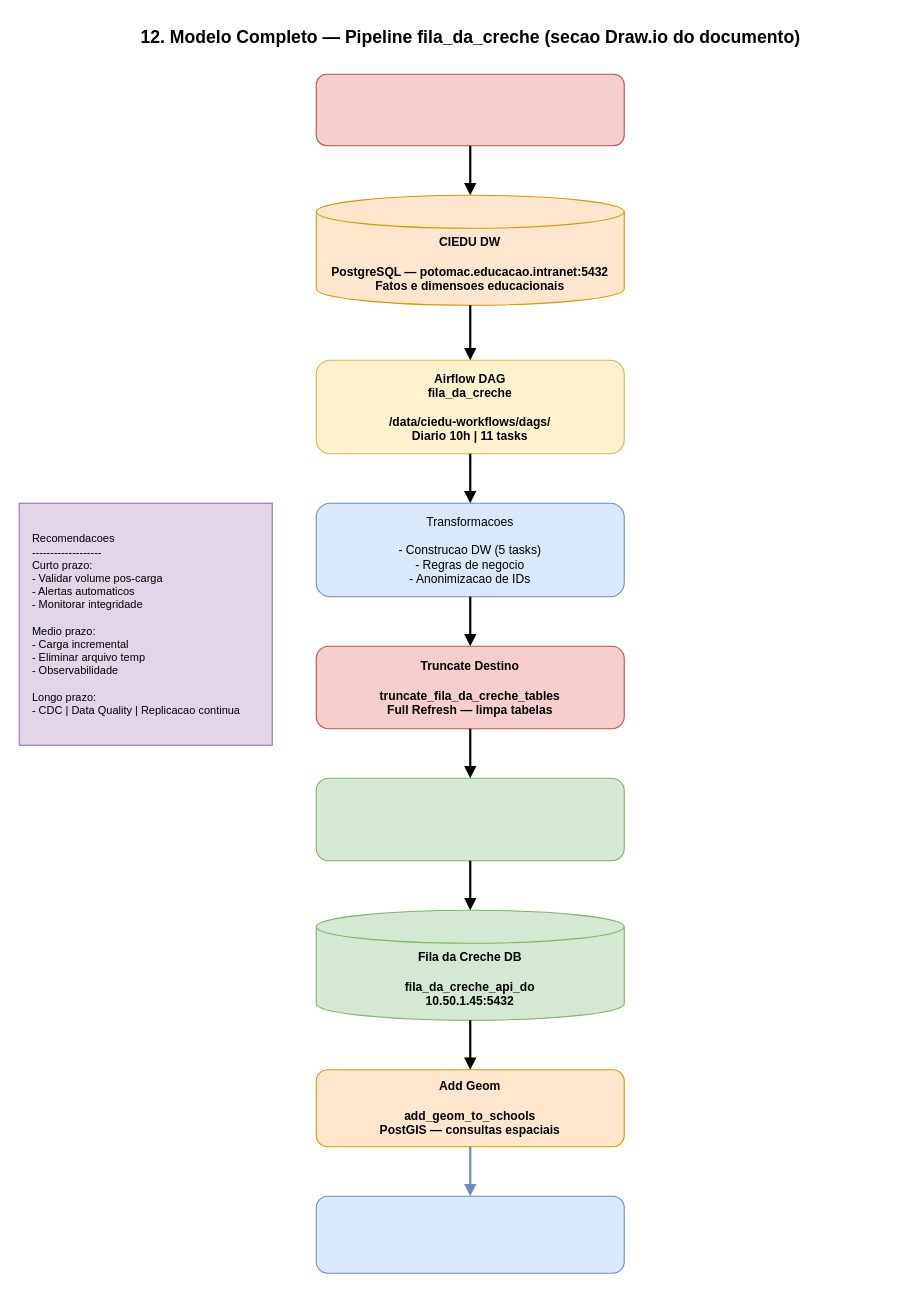
Some shapes in this 897 by 1293 pixel diagram are drawn without their labels. Here are the shapes that lost their labels. From the top down, the centre of each, then its label:
At [469,109]: "EOL / RAW Fonte operacional cadastro educacional".
At [469,819]: "Replicacao pg_dump 4 tasks copy_* sequenciais Via /tmp/fdc_dump.sql".
At [469,1234]: "Portal Publico SME Vagas na Creche API + FrontEnd React".
